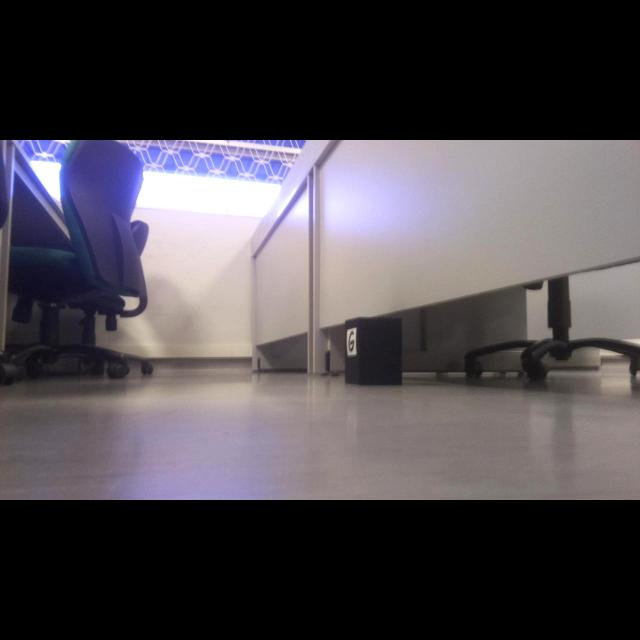G: (349, 331, 354, 351)
